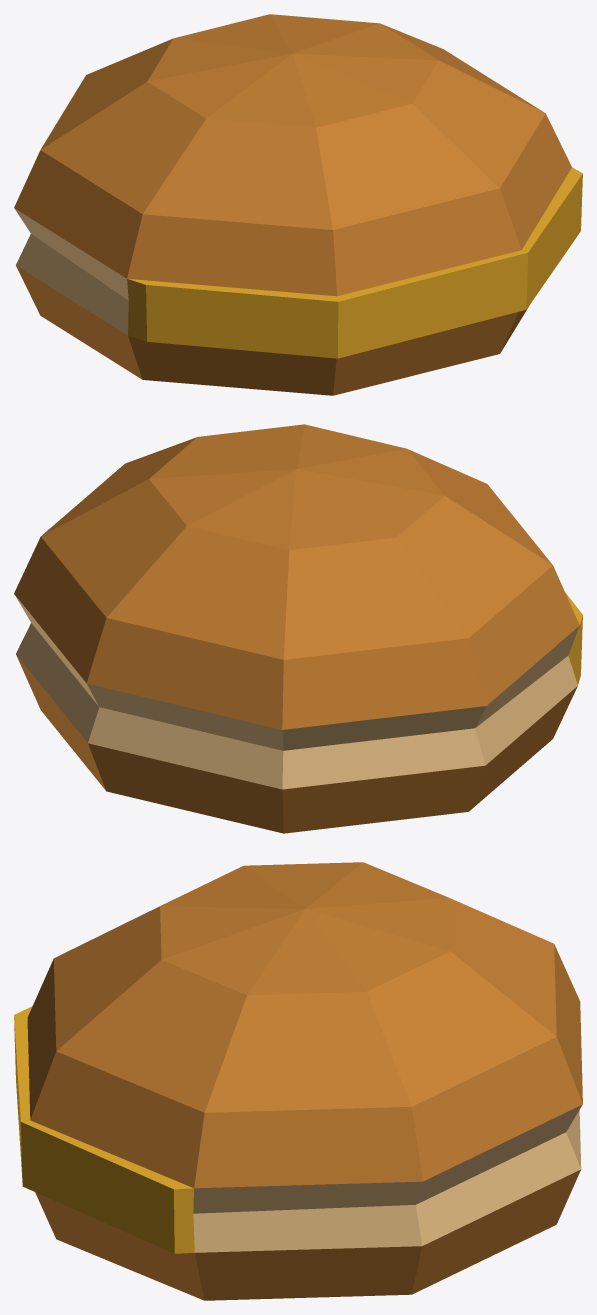
Rendered from C_Bola_de_Berlim.fbx.
3 views of the same model, one above another, from view 1: azimuth 30°, elevation 25°; view 2: azimuth 150°, elevation 25°; view 3: azimuth 270°, elevation 25° (orthographic). The views are drawn at different scales.
Visible parts, largest first — view 1: C_Bola_de_Berlim; view 2: C_Bola_de_Berlim; view 3: C_Bola_de_Berlim.
Part boxes in pixels (x1,y1,x2,y2): C_Bola_de_Berlim: [14, 14, 582, 395]; C_Bola_de_Berlim: [14, 424, 582, 833]; C_Bola_de_Berlim: [14, 862, 582, 1300].
Size of the model in its own units: 67.76 by 63.71 by 34.16.
